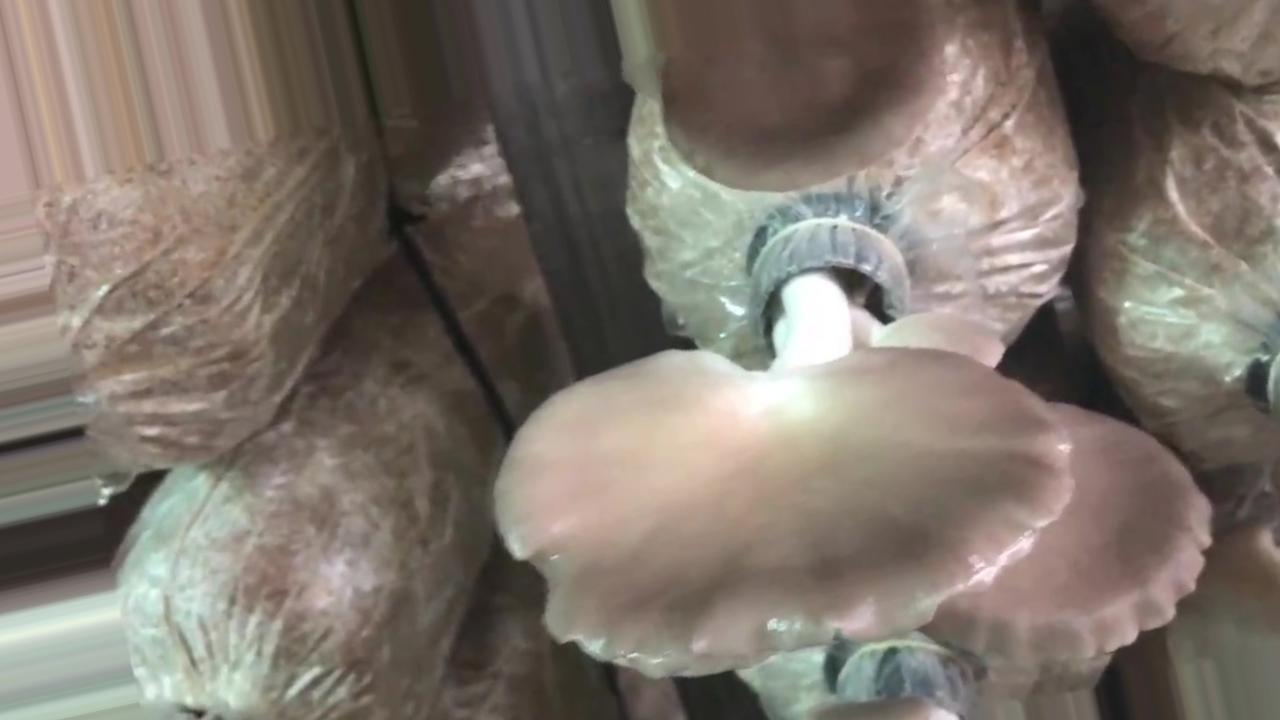nam: (489, 203, 1080, 682), (931, 403, 1221, 678), (656, 1, 948, 199)
